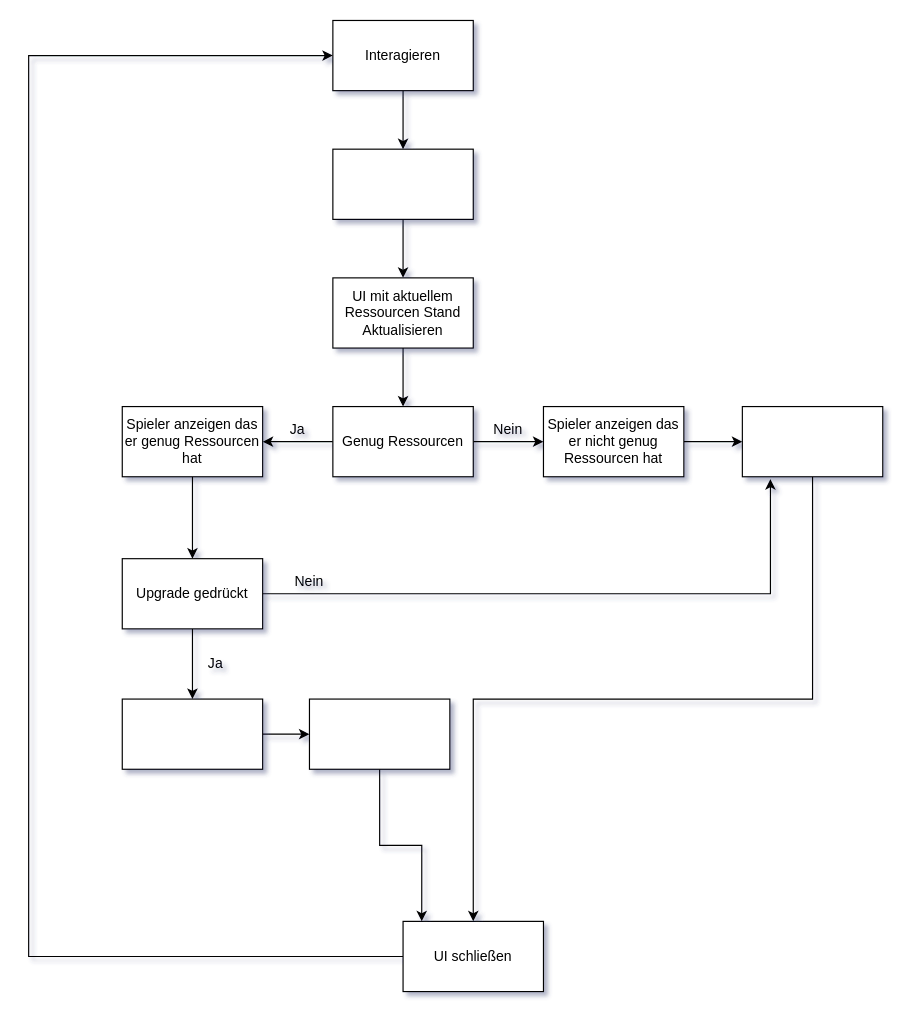
This 910x1019 diagram has some shape labels left out. Each missing label, with the centre of its shape:
Gebäude Upgraden: point 379,733
Nicht Upgraden: point 812,441
Ressourcen aus dem Inventar entfernen: point 192,733
UI Aufrufen: point 402,183
